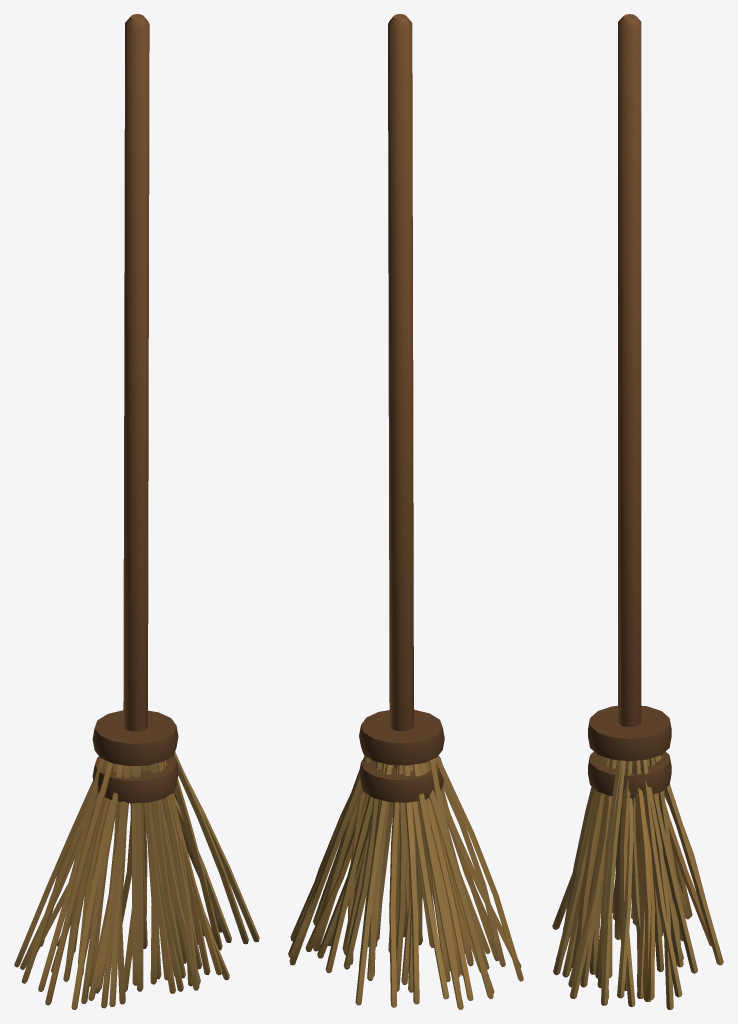
Rendered from broom.glb.
3 renders of one model, left to right at view 1: azimuth 30°, elevation 25°; view 2: azimuth 150°, elevation 25°; view 3: azimuth 270°, elevation 25°, orthographic.
Visible parts, largest first — view 1: Sammel Holz, Sammel Stoff; view 2: Sammel Holz, Sammel Stoff; view 3: Sammel Holz, Sammel Stoff.
Boxes of the visible parts, x1,y1,x2,y2 form: Sammel Holz: [14, 14, 259, 1009]; Sammel Stoff: [92, 710, 178, 803]; Sammel Holz: [288, 14, 523, 1009]; Sammel Stoff: [359, 709, 444, 802]; Sammel Holz: [552, 14, 723, 1009]; Sammel Stoff: [588, 705, 671, 798].
Size of the model in its own units: 0.2451 by 1.03 by 0.1681.
